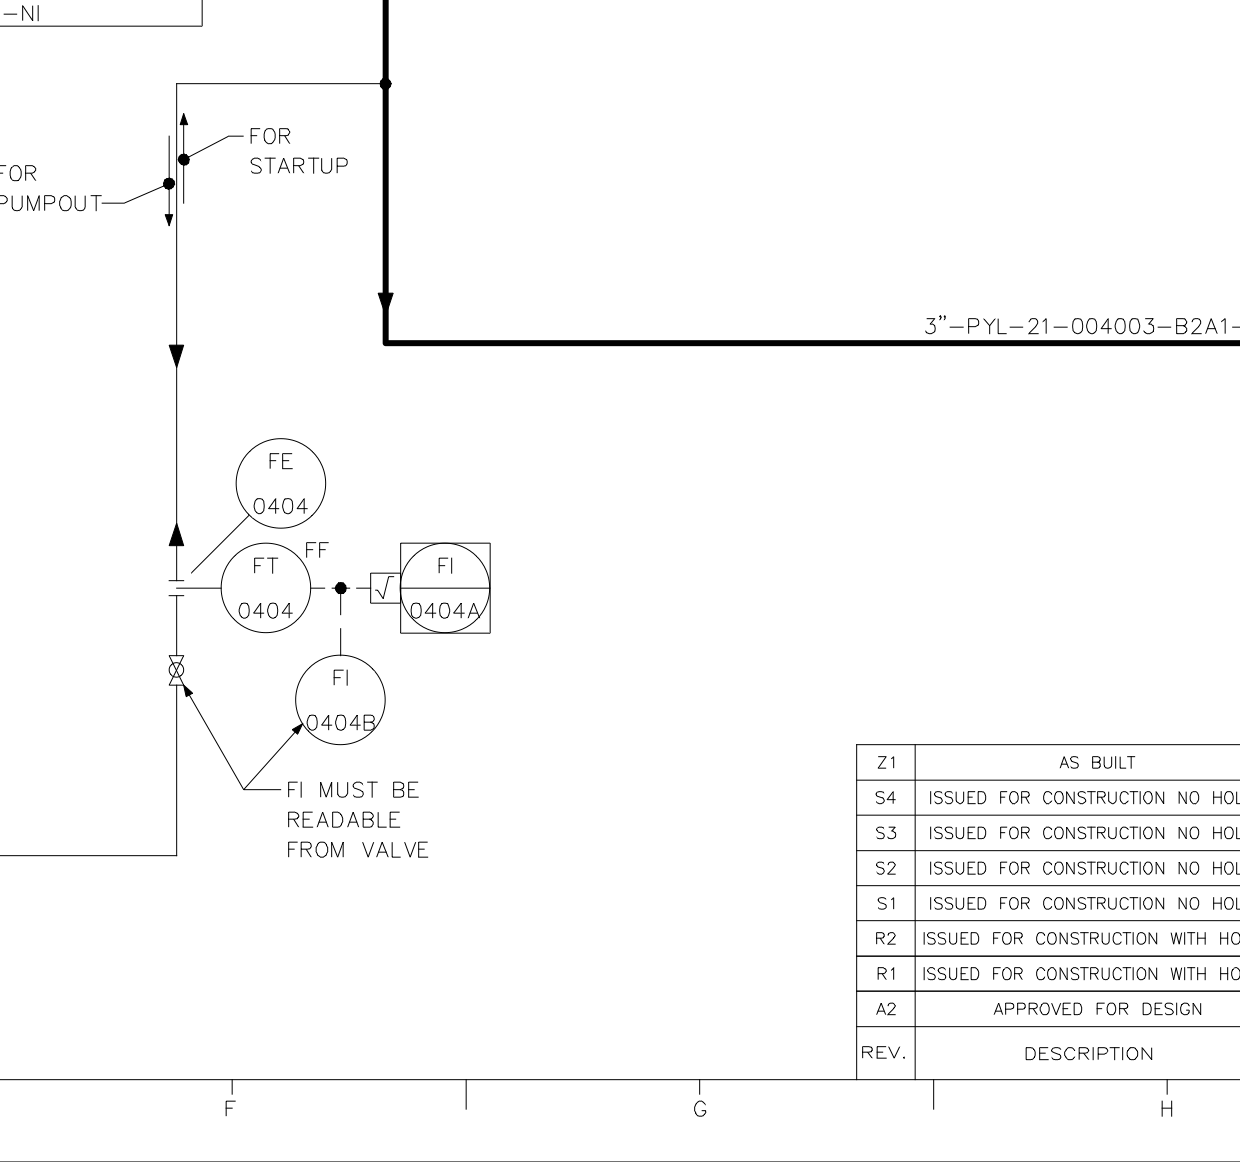Line Number: (921, 309, 1240, 337)
